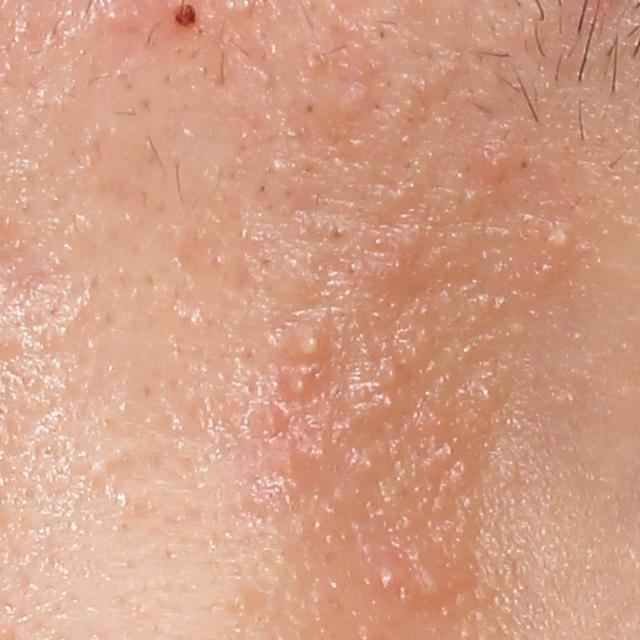pustule: (280, 322, 337, 373), (536, 215, 578, 264), (282, 367, 318, 405), (377, 558, 405, 597)
